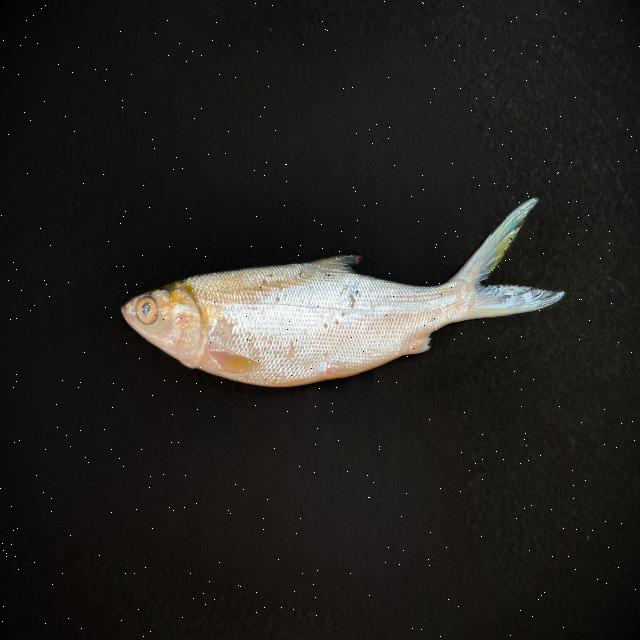580 g: (122, 197, 566, 387)
